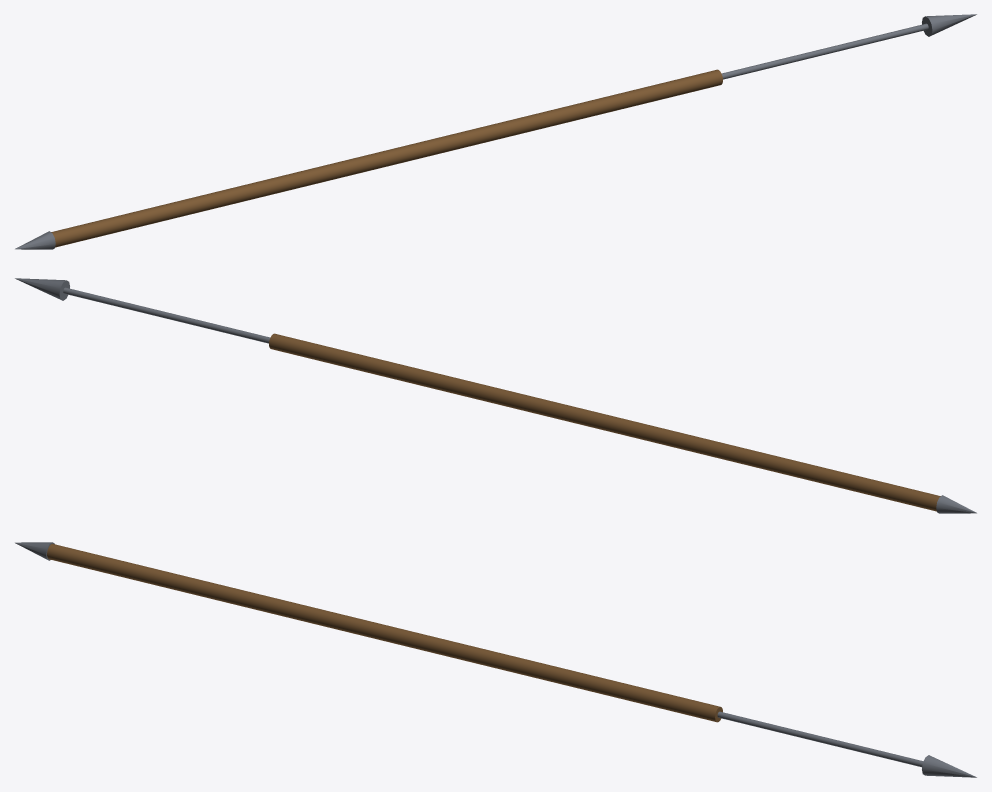
The model's file is pilum.glb.
3 renders of one model, top to bottom at view 1: azimuth 30°, elevation 25°; view 2: azimuth 150°, elevation 25°; view 3: azimuth 330°, elevation 25°, orthographic.
Parts seen in each view (by area): view 1: Pilum; view 2: Pilum; view 3: Pilum.
Part boxes in pixels (<box>): Pilum: <box>15,14,976,249</box>; Pilum: <box>15,278,976,513</box>; Pilum: <box>15,542,976,777</box>.
Size of the model in its own units: 2.08 by 0.038 by 0.04.
